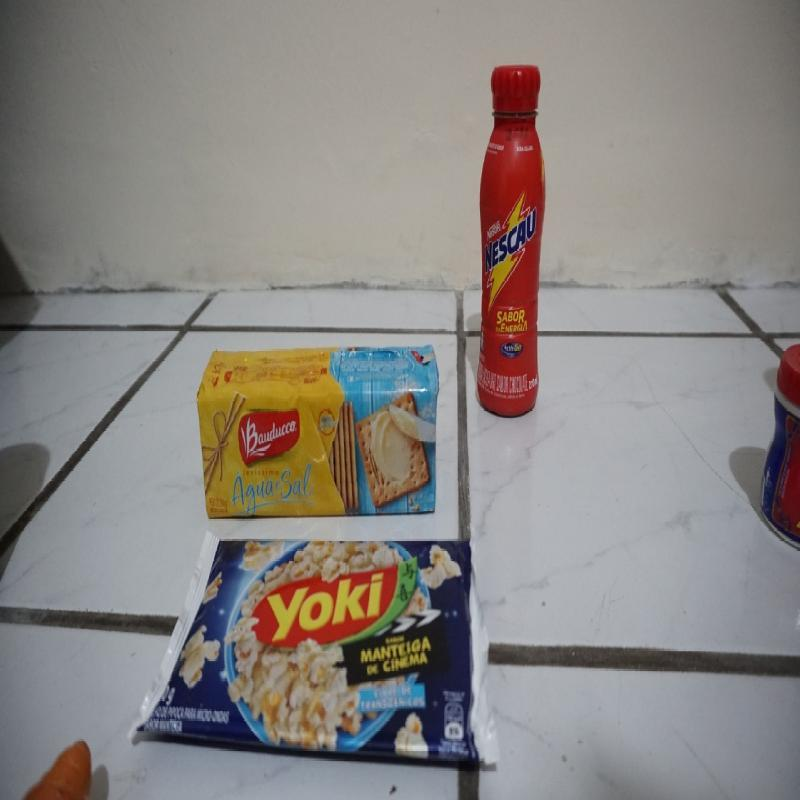Carrot: (19, 733, 97, 798)
Chocolate Milk: (475, 69, 543, 411)
Cracker: (199, 346, 442, 518)
Popcorn: (131, 528, 493, 764)
Yeast: (759, 337, 800, 544)
